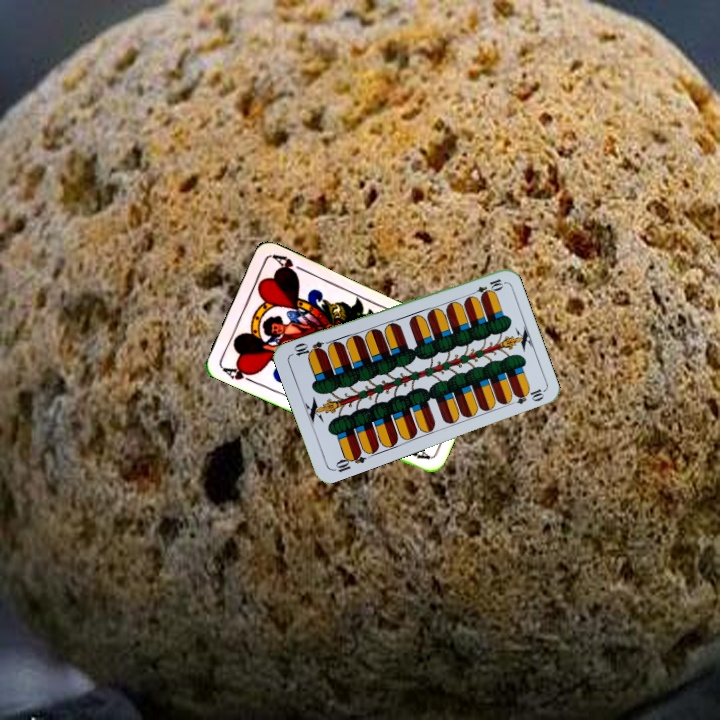E10: (329, 447, 368, 475), (466, 275, 506, 299)
HA: (218, 361, 258, 385)
